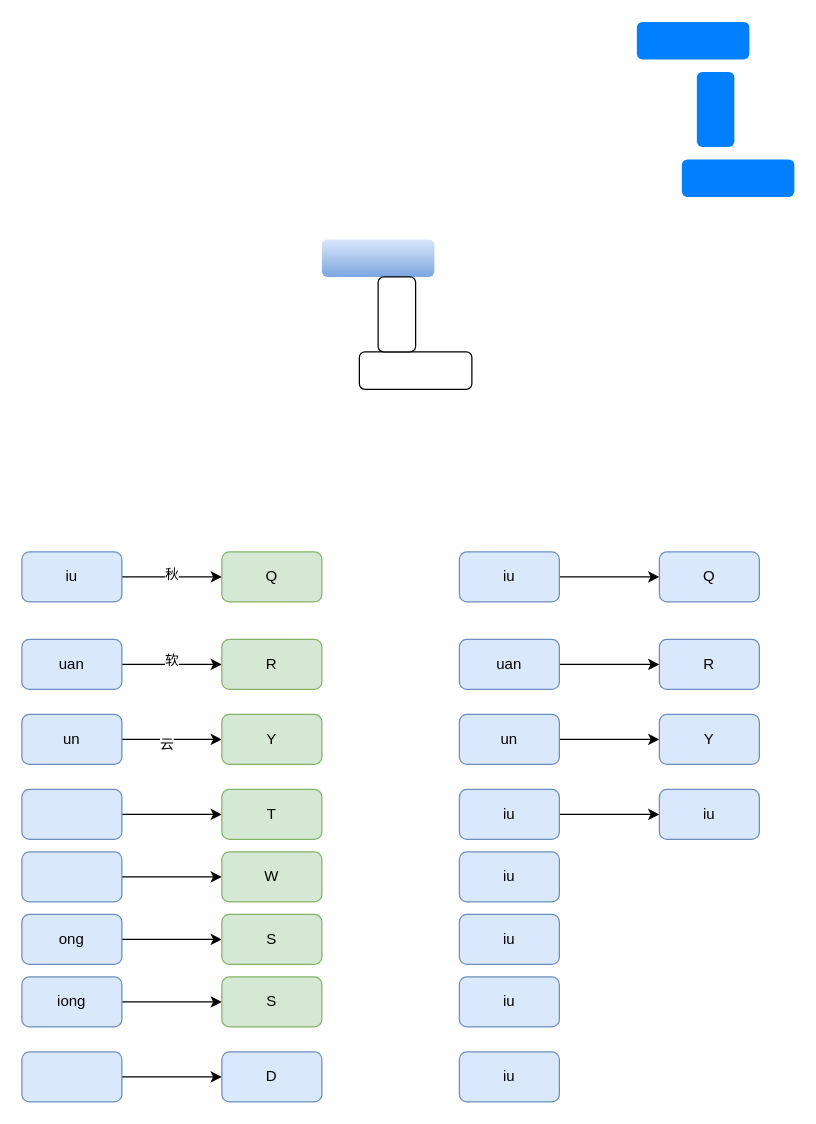
This 816x1124 diagram has some shape labels left out. Each missing label, with the box of its shape:
ai: (21, 1051, 122, 1102)
ei: (21, 851, 122, 902)
ue: (21, 788, 122, 839)
